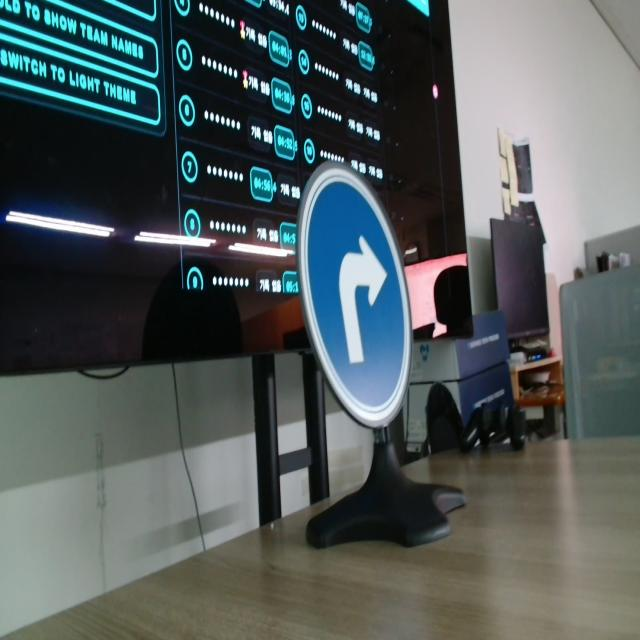right_dierection: (291, 152, 422, 450)
